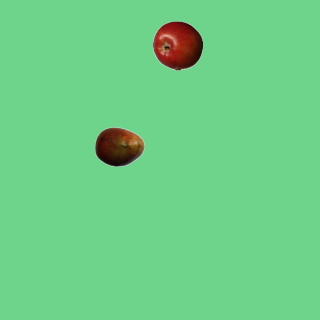Apple Braeburn: (152, 20, 202, 70)
Mango Red: (94, 121, 144, 171)
